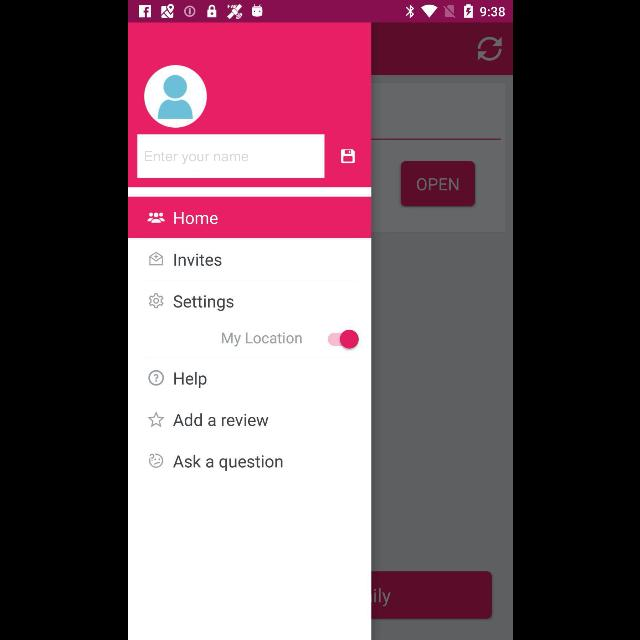icon: (144, 65, 206, 128), (476, 36, 502, 62), (148, 412, 164, 428), (148, 370, 164, 386), (147, 212, 165, 224), (340, 149, 354, 163), (148, 294, 162, 308), (149, 252, 163, 266)
image: (148, 454, 162, 468)
input: (136, 134, 324, 178)
panel: (127, 22, 370, 640)
switch: (328, 329, 358, 349)
text: (172, 454, 282, 472), (172, 412, 268, 428), (220, 332, 302, 348), (144, 152, 248, 164), (172, 295, 234, 311), (173, 254, 221, 266), (173, 212, 217, 224), (174, 372, 206, 388)
textbutton: (400, 161, 474, 207)
uppertaskbar: (128, 1, 512, 23)
